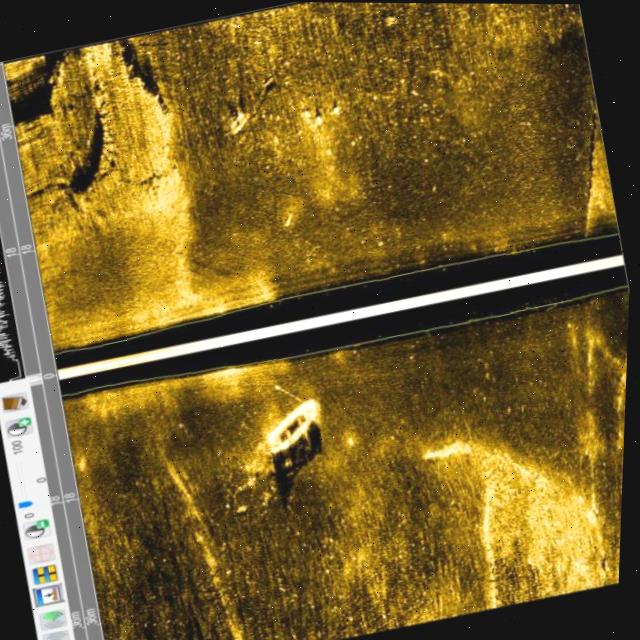shipwreck: (255, 394, 333, 457)
